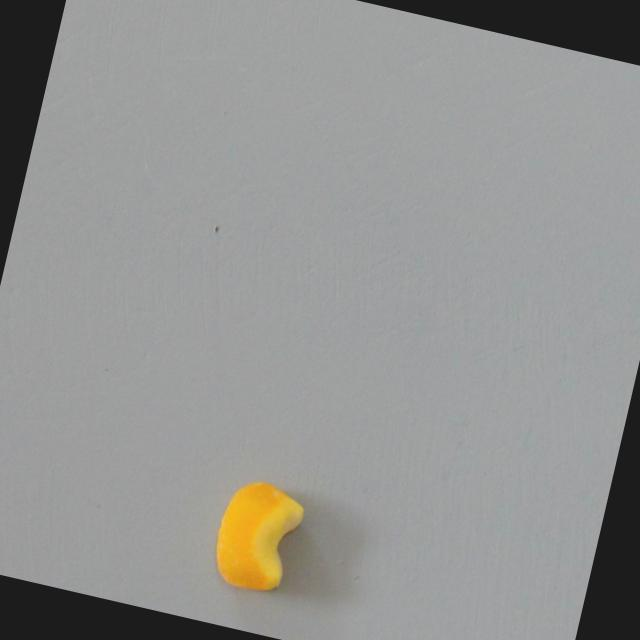no_canjicado: (208, 474, 311, 597)
